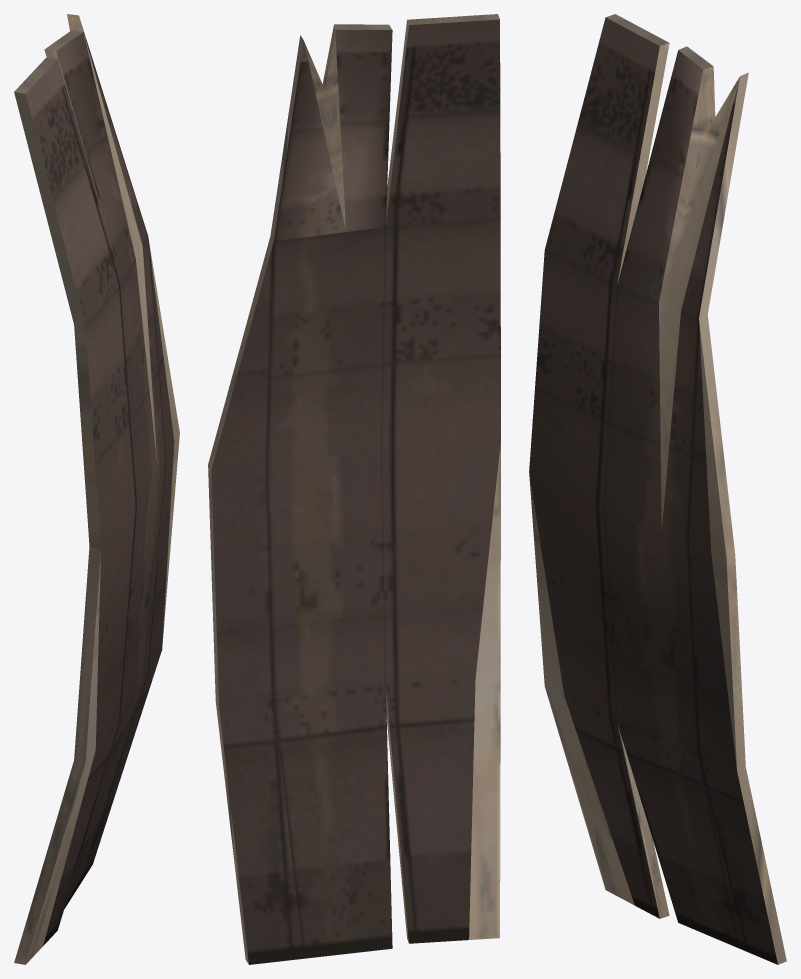
The model's file is wooden_barrel_chunk01.glb.
The picture shows the model from 3 angles, left to right: view 1: azimuth 30°, elevation 25°; view 2: azimuth 150°, elevation 25°; view 3: azimuth 270°, elevation 25°; orthographic projection. The views are drawn at different scales.
Visible parts, largest first — view 1: wooden_barrel_chunk01; view 2: wooden_barrel_chunk01; view 3: wooden_barrel_chunk01.
Boxes of the visible parts, x1,y1,x2,y2 form: wooden_barrel_chunk01: (14,14,179,964); wooden_barrel_chunk01: (208,14,500,964); wooden_barrel_chunk01: (529,14,786,964).
Size of the model in its own units: 0.3039 by 1.14 by 0.3059.
1 material, 1 textured.
